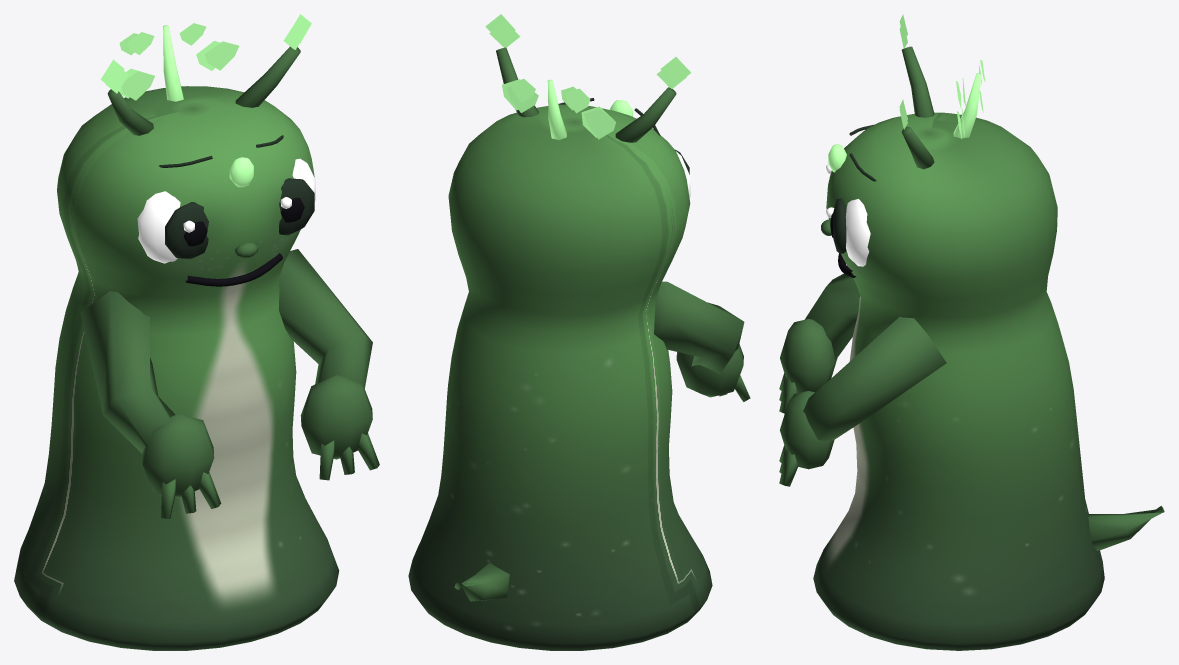
The model's file is primigenia_pixar.glb.
3 renders of one model, left to right at view 1: azimuth 30°, elevation 25°; view 2: azimuth 150°, elevation 25°; view 3: azimuth 270°, elevation 25°, orthographic. The views are drawn at different scales.
Parts seen in each view (by area): view 1: primigenia_cuerpo; view 2: primigenia_cuerpo; view 3: primigenia_cuerpo.
Boxes of the visible parts, x1,y1,x2,y2 form: primigenia_cuerpo: [14, 14, 379, 650]; primigenia_cuerpo: [408, 14, 750, 650]; primigenia_cuerpo: [779, 14, 1164, 650].
Bounding box in the file's own units: 0.302 × 0.58 × 0.3802.
Materials: 5 (1 with a texture image).
